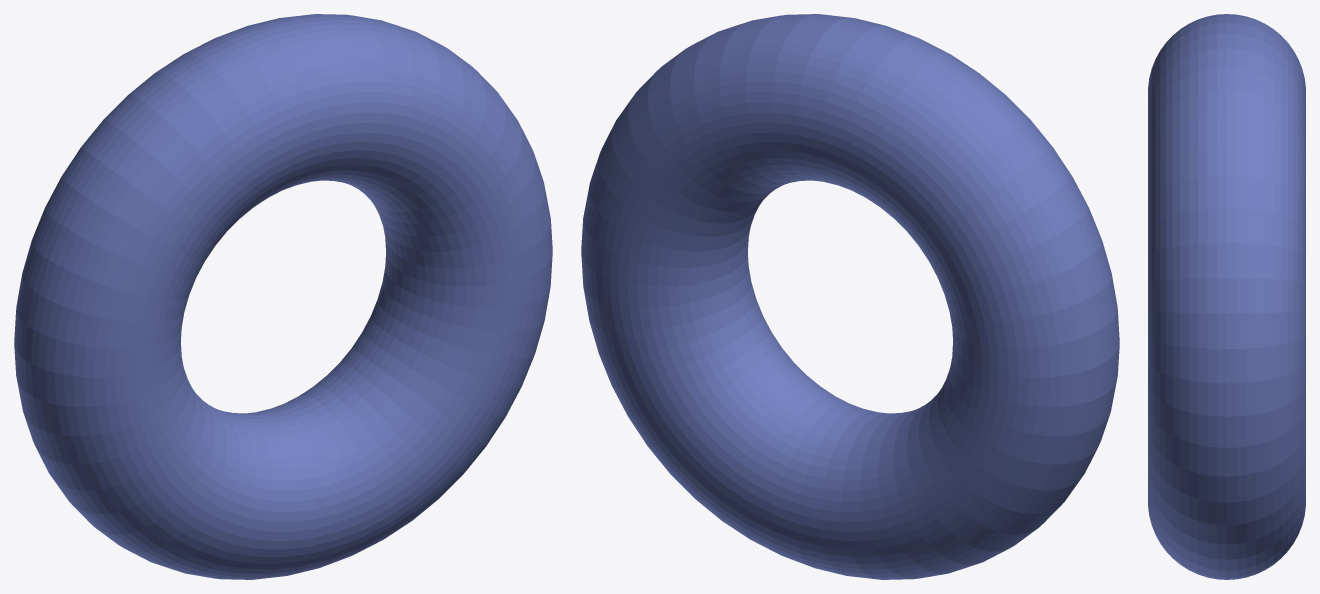
3 renders of one model, left to right at view 1: azimuth 30°, elevation 25°; view 2: azimuth 150°, elevation 25°; view 3: azimuth 270°, elevation 25°, orthographic. The views are drawn at different scales.
Parts seen in each view (by area): view 1: world; view 2: world; view 3: world.
Boxes of the visible parts, left/top/right/bottom form: world: left=14, top=14, right=552, bottom=579; world: left=581, top=14, right=1119, bottom=579; world: left=1148, top=14, right=1305, bottom=579.
Bounding box in the file's own units: 15.73 × 15.7 × 4.39.
